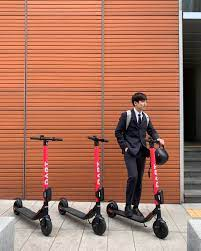kick_board: (13, 135, 63, 235), (58, 135, 108, 234)
kick_handler: (29, 134, 62, 145), (87, 136, 108, 145)
kick_neck: (94, 148, 103, 213), (42, 147, 50, 204)
kick_wheel: (92, 217, 107, 235), (153, 219, 168, 237), (41, 218, 52, 237), (106, 201, 117, 217), (58, 198, 65, 214), (13, 199, 20, 213)
